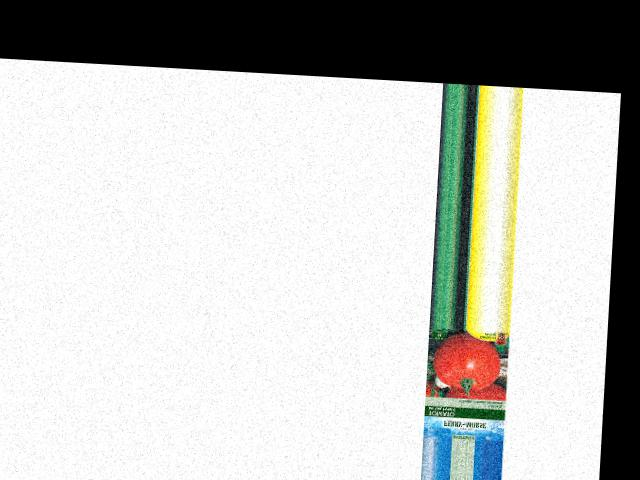tomato: (432, 330, 502, 390)
